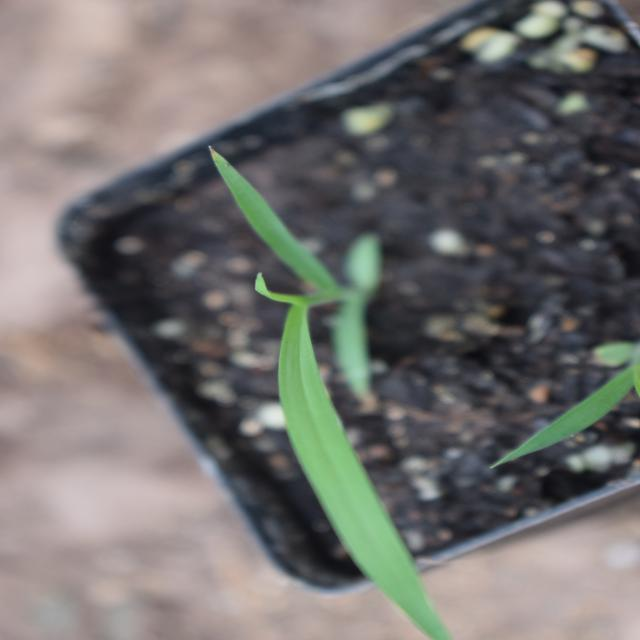crabgrass: (3, 202, 496, 456)
